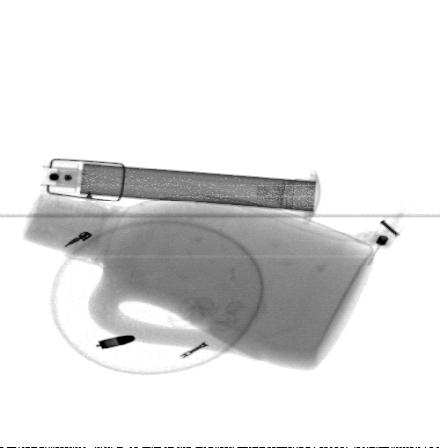Bullet: (94, 334, 139, 351)
